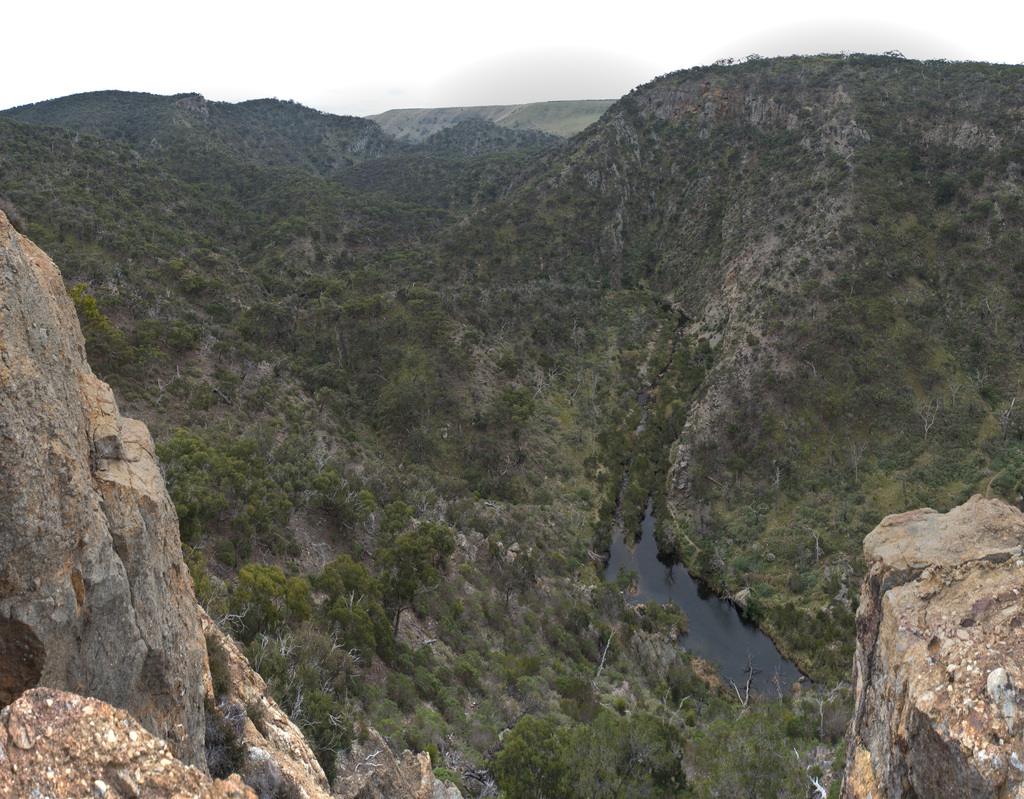Tree: (0, 49, 1024, 798)
